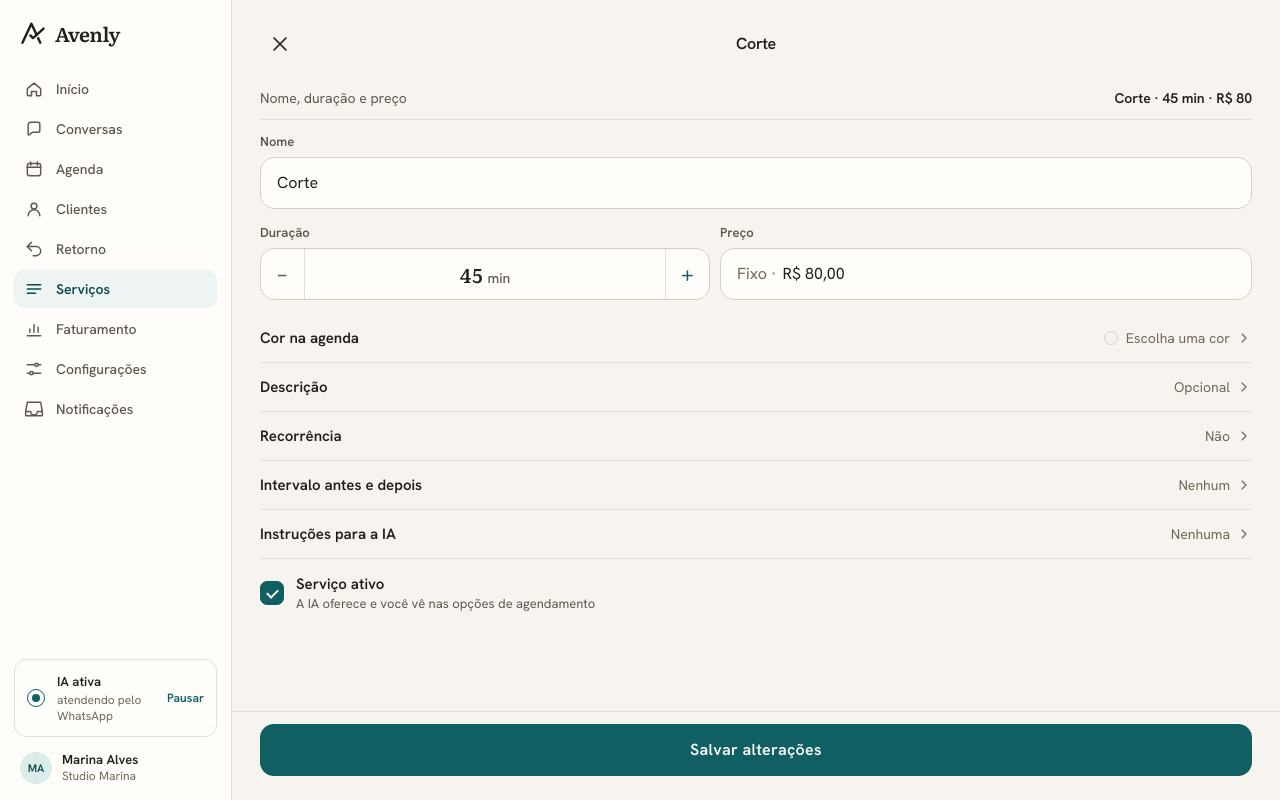
Test: Goal112 S4: /servicos/editar guarda o preço e a linha aberta › estreito para largo e de volta
Click the button with class "service-option-row" showing "Descrição Opcional".
click(294, 387)  # box [260,363,1252,411]
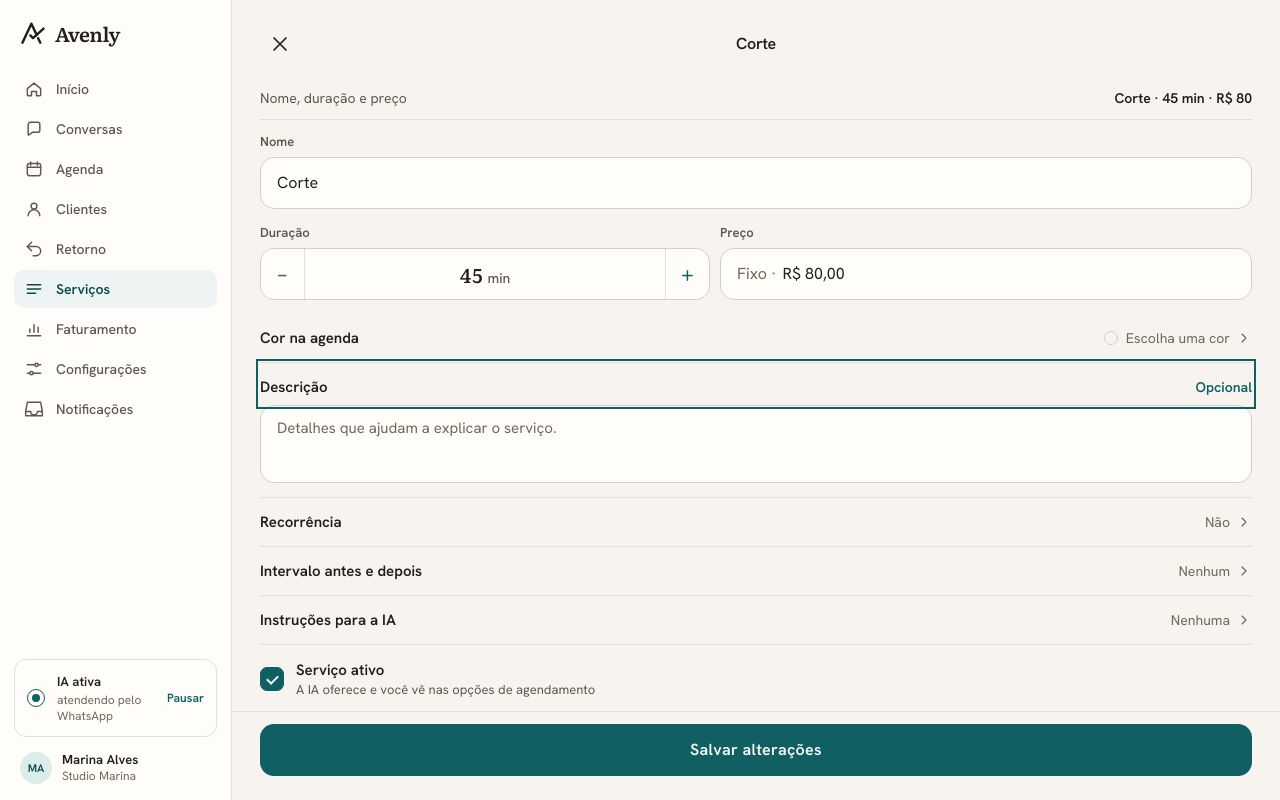
Now the button with class "service-option-row" is expanded, box [260,363,1252,405]
Type ",5" into the field named "Preço".
click(1009, 274); type(",5")  # box [782,249,1235,299]
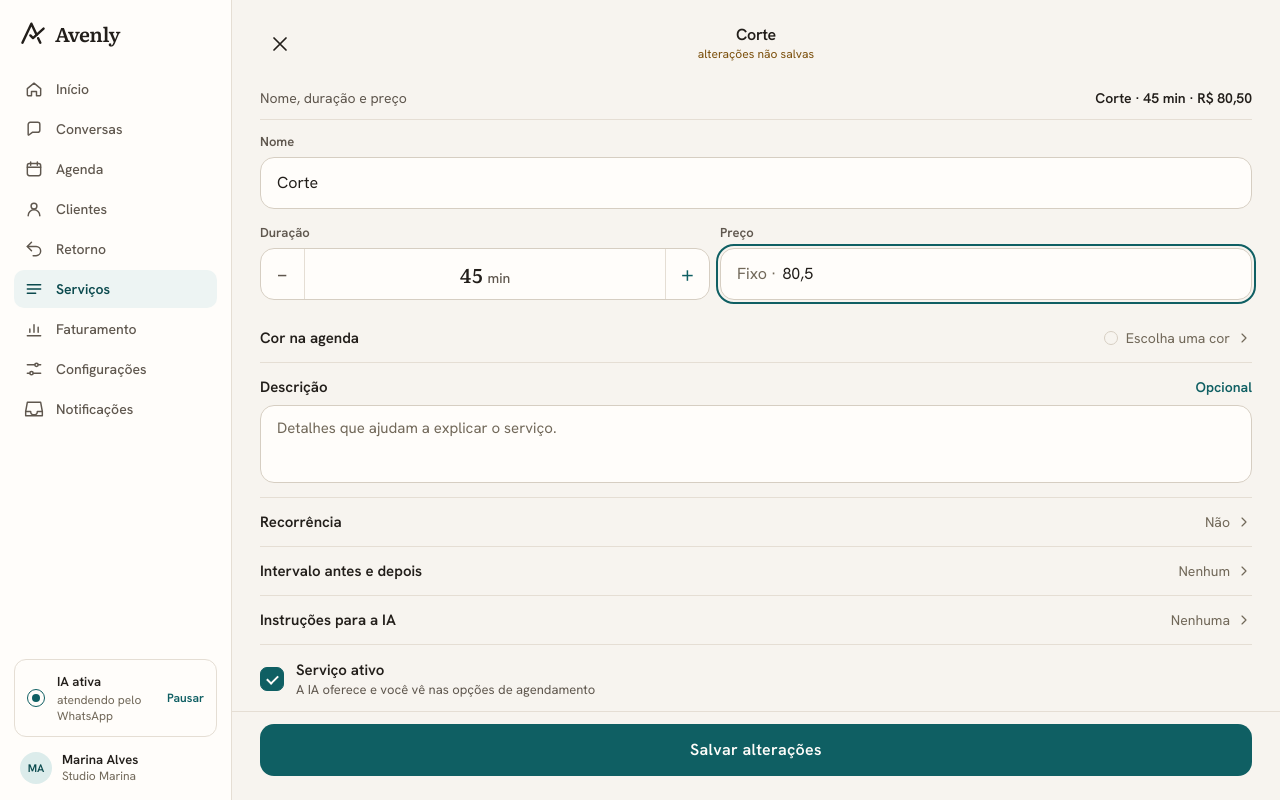
Now the button with class "service-option-row" is expanded, box [260,363,1252,405]
Now the field named "Preço" holds "80,5", box [782,249,1235,299]
